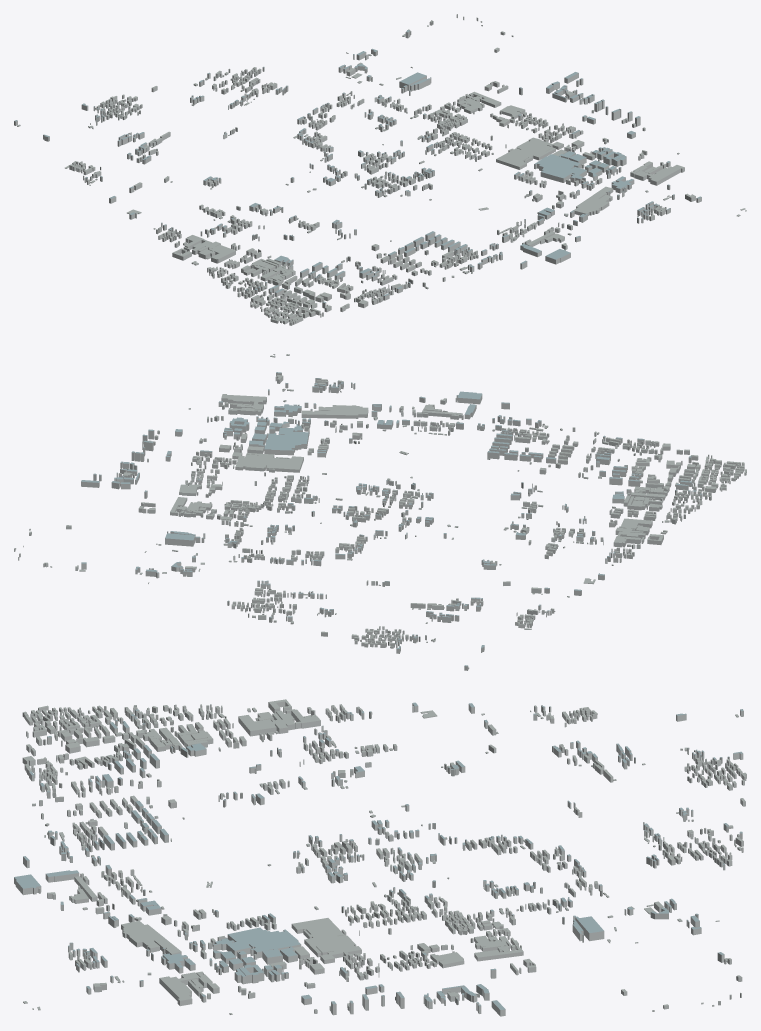
3 renders of one model, top to bottom at view 1: azimuth 30°, elevation 25°; view 2: azimuth 150°, elevation 25°; view 3: azimuth 270°, elevation 25°, orthographic. The views are drawn at different scales.
Visible parts, largest first — view 1: 上海全域建筑分块 · mapped building neighborhood; view 2: 上海全域建筑分块 · mapped building neighborhood; view 3: 上海全域建筑分块 · mapped building neighborhood.
Boxes of the visible parts, x1=… form: 上海全域建筑分块 · mapped building neighborhood: x1=14, y1=14, x2=746, y2=325; 上海全域建筑分块 · mapped building neighborhood: x1=14, y1=354, x2=746, y2=670; 上海全域建筑分块 · mapped building neighborhood: x1=14, y1=699, x2=746, y2=1016.
Size of the model in its own units: 2145 by 35.81 by 2130.
